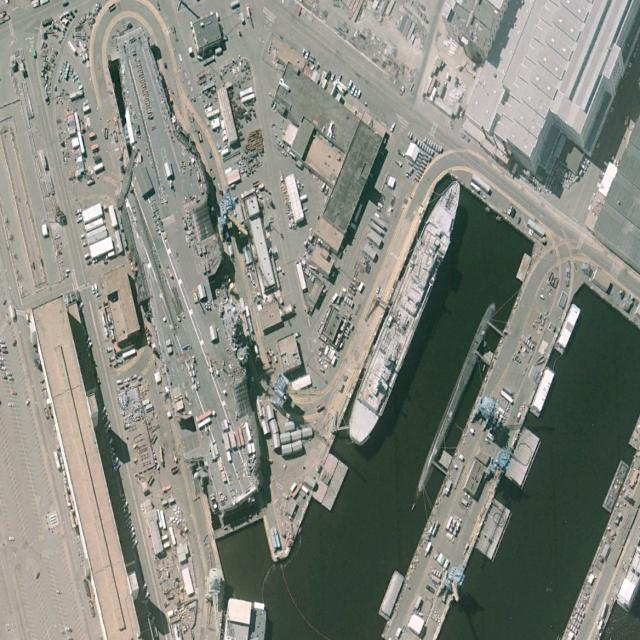Aircraft Carrier: (83, 9, 278, 530)
Other Ship: (341, 169, 470, 454)
Submarine: (407, 295, 500, 515)
